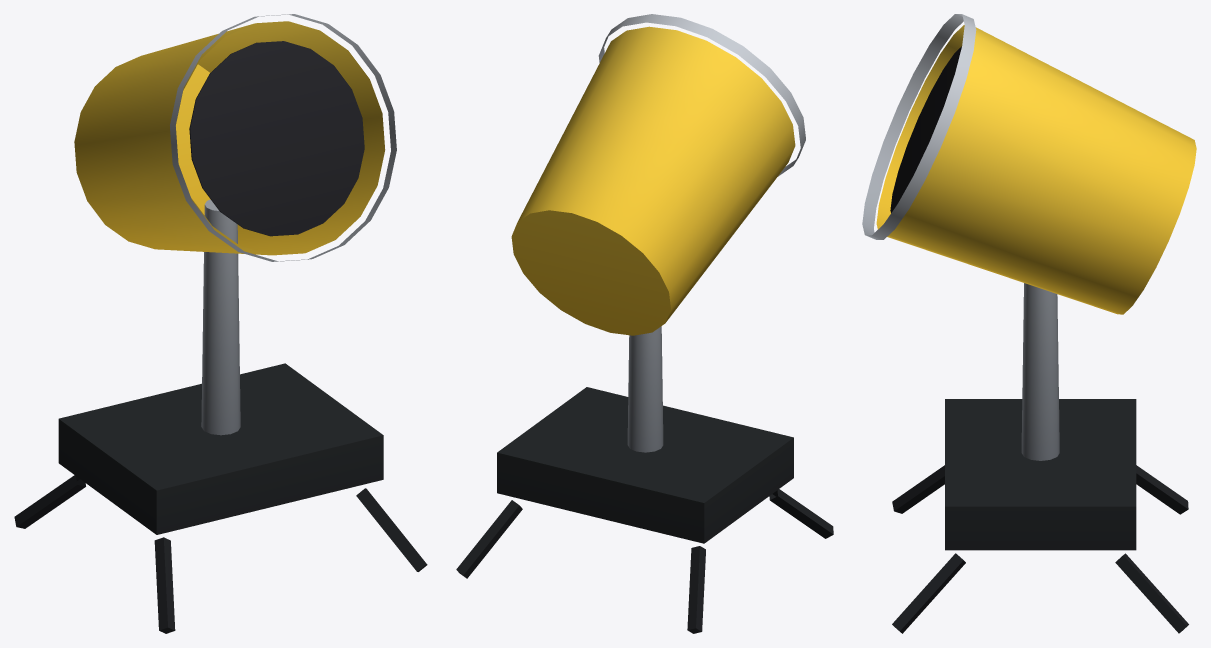
The model's file is Snow_Cannon.fbx.
3 renders of one model, left to right at view 1: azimuth 30°, elevation 25°; view 2: azimuth 150°, elevation 25°; view 3: azimuth 270°, elevation 25°, orthographic. The views are drawn at different scales.
Visible parts, largest first — view 1: Snow_Cannon_LOD0; view 2: Snow_Cannon_LOD0; view 3: Snow_Cannon_LOD0.
Boxes of the visible parts, x1,y1,x2,y2 form: Snow_Cannon_LOD0: (14,14,427,633); Snow_Cannon_LOD0: (456,14,833,633); Snow_Cannon_LOD0: (862,14,1196,633).
Size of what is drawn, in the model's own units: 1.89 by 3.8 by 2.1.
Materials: 1 (1 with a texture image).
